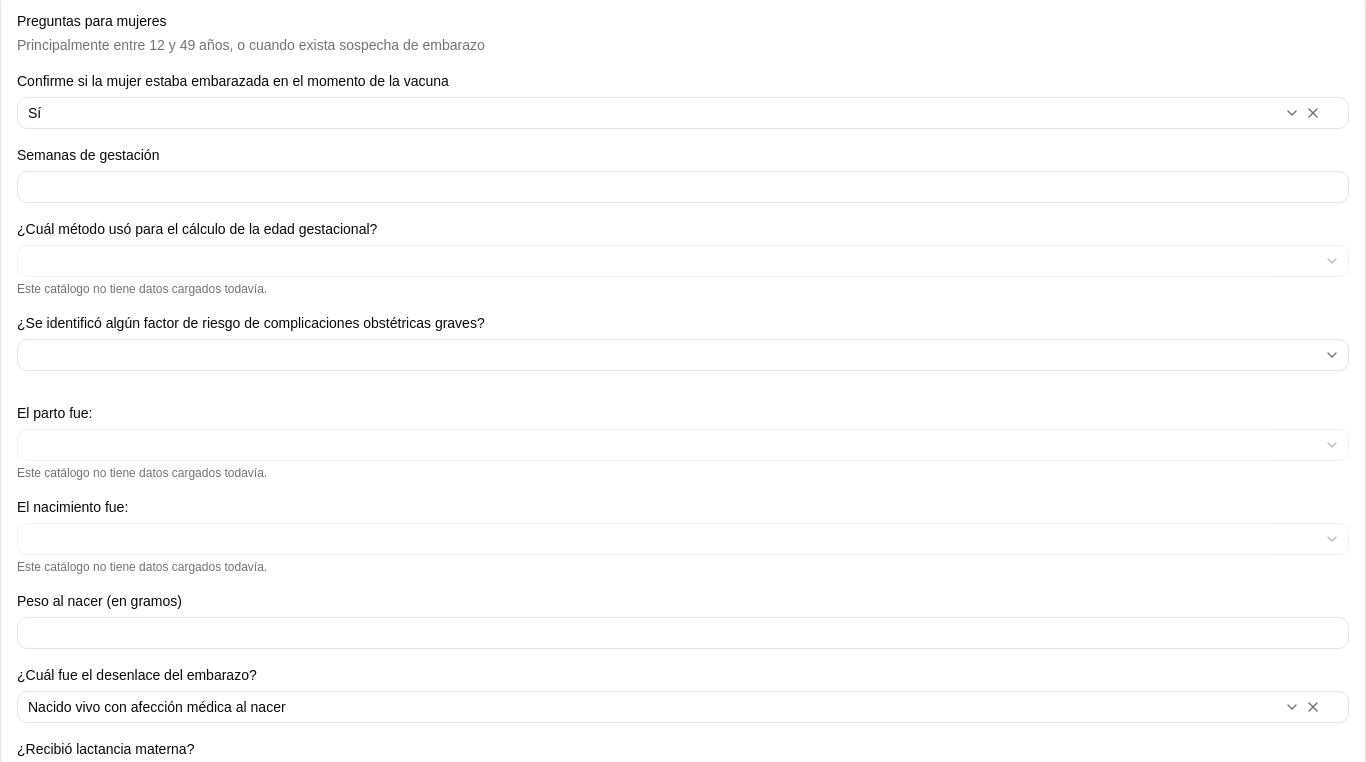
Test case: PregnancySection — B2 (SPEC FE13b §4 paso 7) › con condiciones activas, cambiar el desenlace no manda ninguna petición y abre el diálogo de bloqueo
Click the dropdown named "¿Cuál fue el desenlace del embarazo?" at point(157, 707), box [17, 691, 1349, 723]
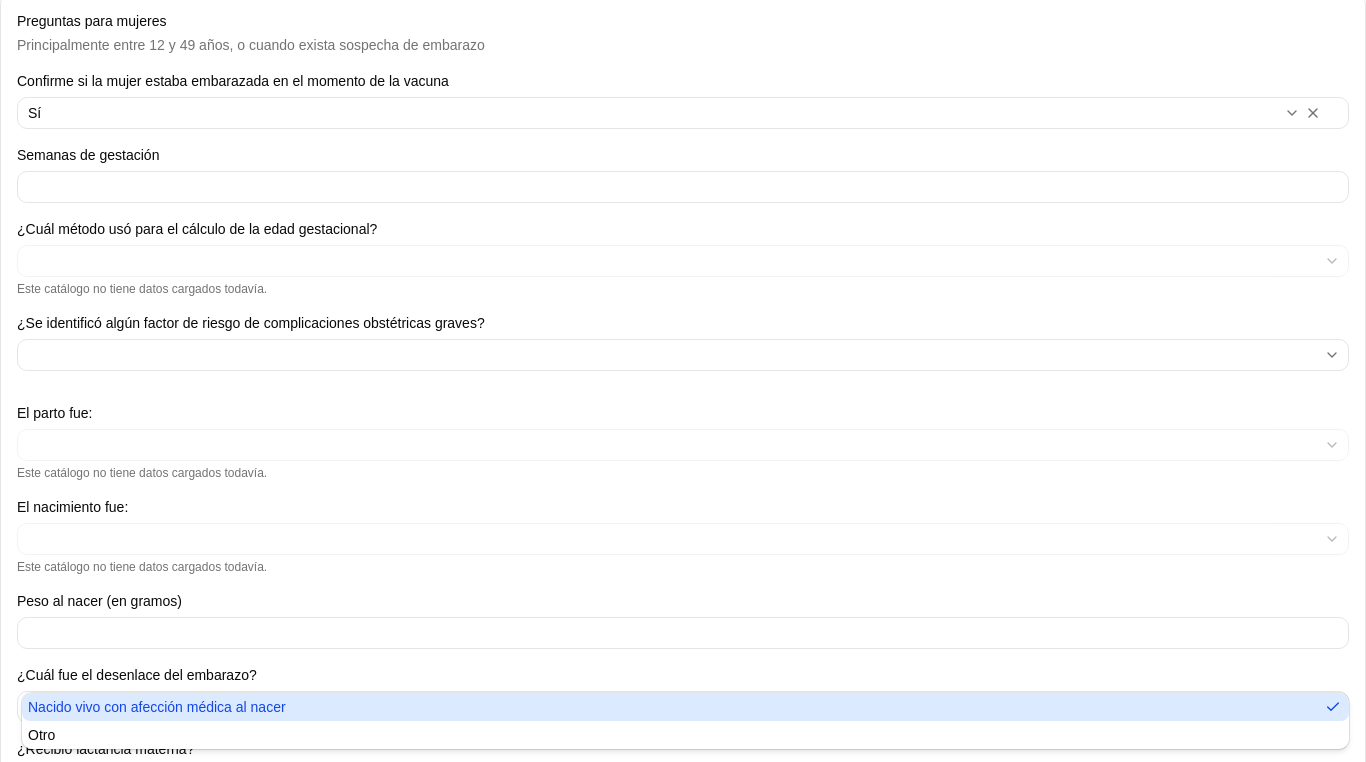
Click the option "Otro" at point(42, 735), box [28, 727, 55, 743]
(page scrolled)
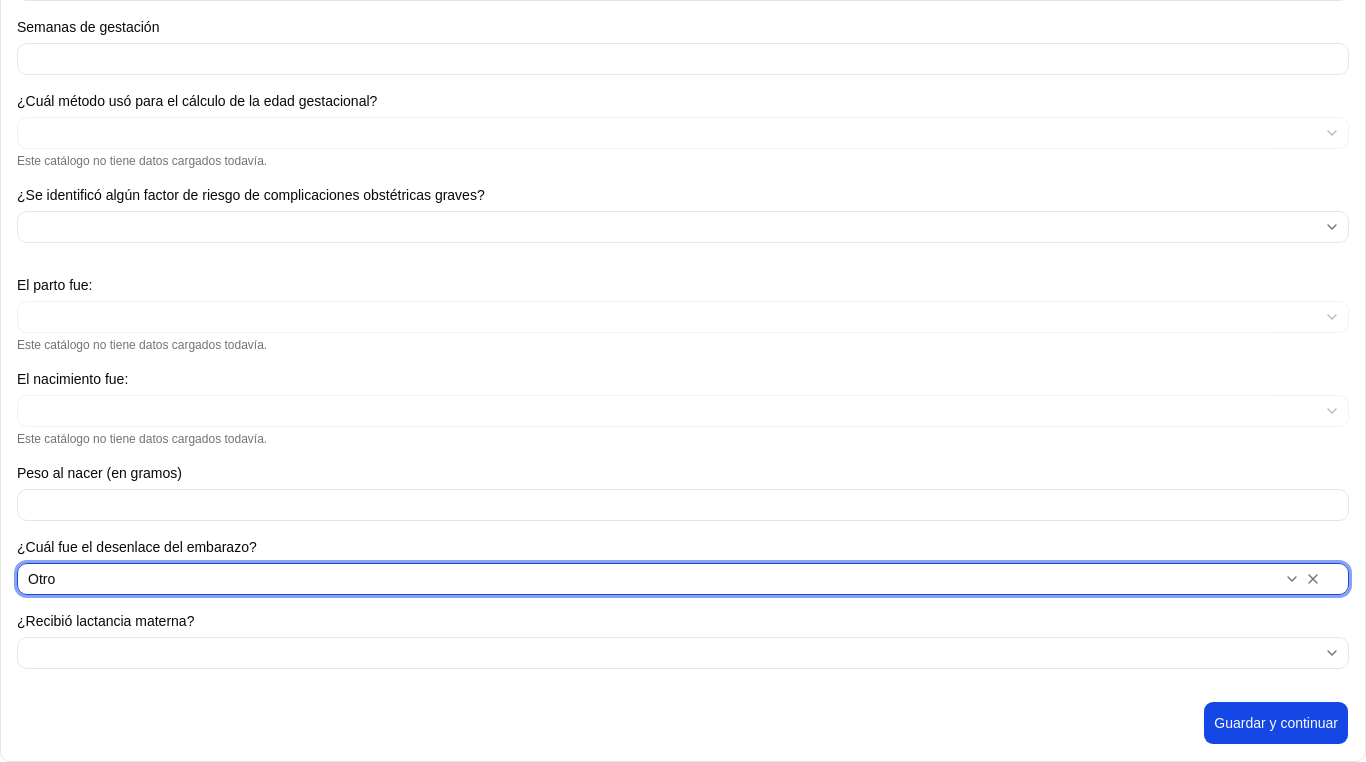
Click the button "Guardar y continuar" at point(1276, 723), box [1203, 701, 1349, 745]
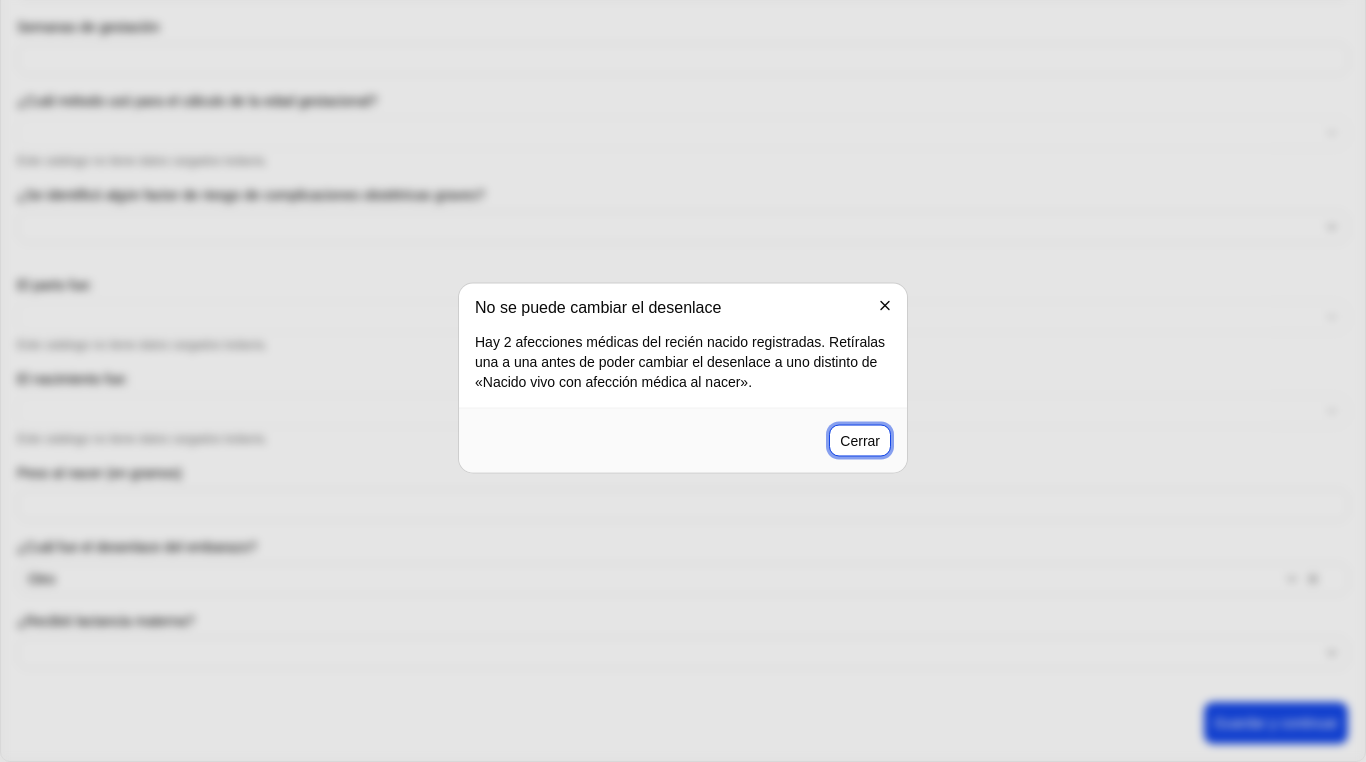
Expected: the heading "No se puede cambiar el desenlace" is shown, [475, 298, 721, 316]
Expected: the text "Hay 2 afecciones médicas del recién nacido registradas. Retíralas una a una antes de poder cambiar el desenlace a uno di" is shown, [475, 334, 885, 390]
